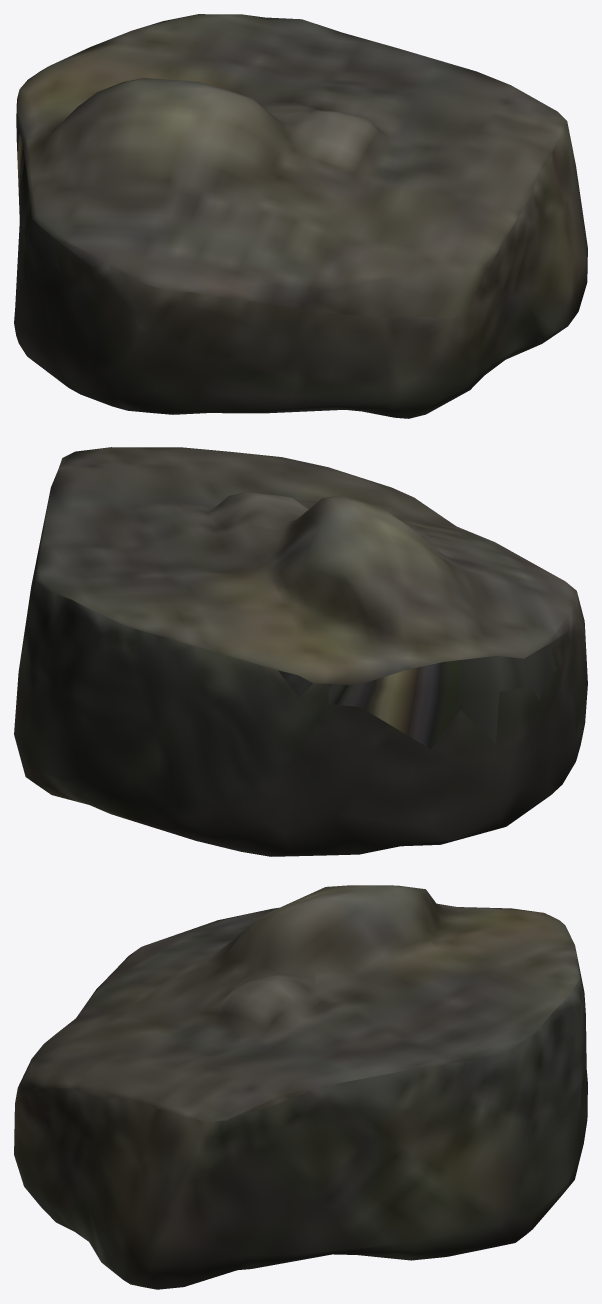
The picture shows the model from 3 angles, top to bottom: view 1: azimuth 30°, elevation 25°; view 2: azimuth 150°, elevation 25°; view 3: azimuth 270°, elevation 25°; orthographic projection. The views are drawn at different scales.
Parts seen in each view (by area): view 1: smallrock5_1; view 2: smallrock5_1; view 3: smallrock5_1.
Part boxes in pixels (x1,y1,x2,y2): smallrock5_1: (14,14,587,418); smallrock5_1: (14,447,587,856); smallrock5_1: (14,885,587,1289).
Bounding box in the file's own units: 4.12 × 2.01 × 4.03.
1 material, 1 textured.
